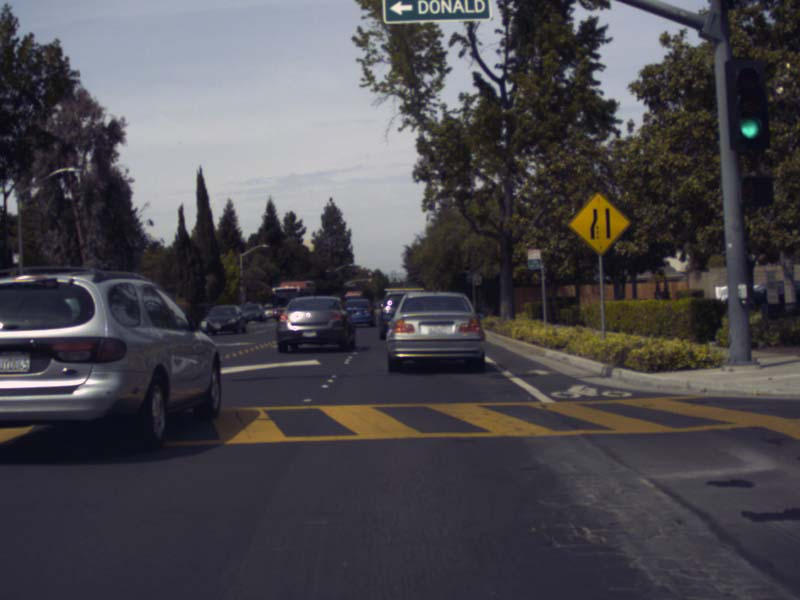Green: (727, 61, 770, 153)
